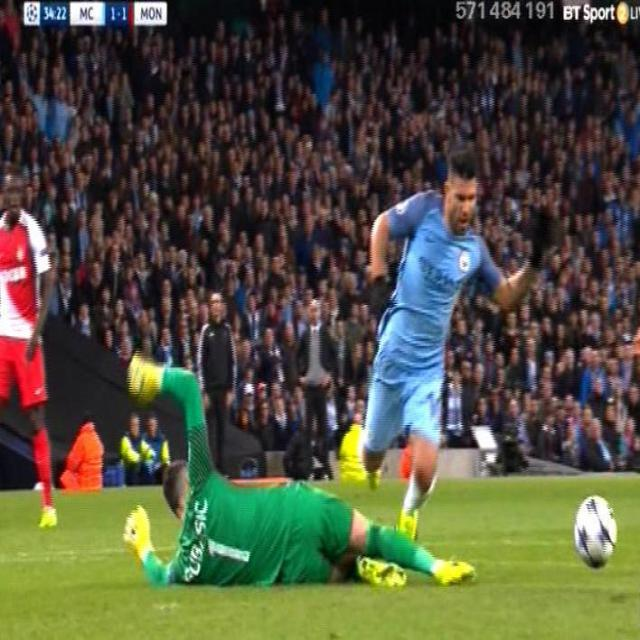fall: (121, 358, 466, 590)
